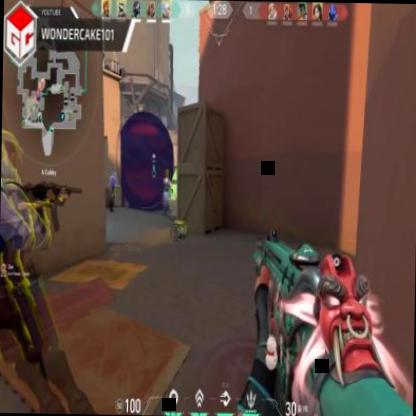enemy: (0, 126, 66, 413), (160, 169, 174, 219), (107, 168, 118, 216)
enemy_head: (1, 127, 20, 177), (166, 170, 170, 180), (112, 172, 116, 180)
